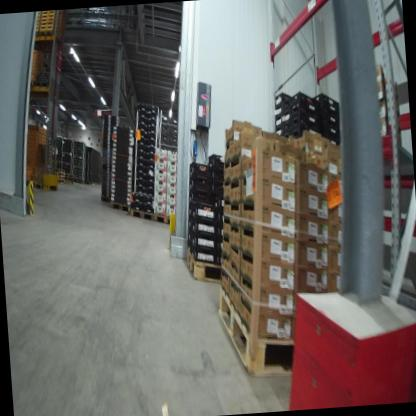pallet: (215, 280, 302, 381), (184, 246, 227, 285), (127, 204, 154, 224), (153, 212, 184, 228), (38, 28, 61, 47), (110, 196, 132, 213), (54, 166, 65, 173), (64, 181, 75, 186), (57, 171, 66, 177), (64, 172, 73, 178), (58, 173, 65, 180), (64, 177, 74, 181), (58, 180, 66, 184)
